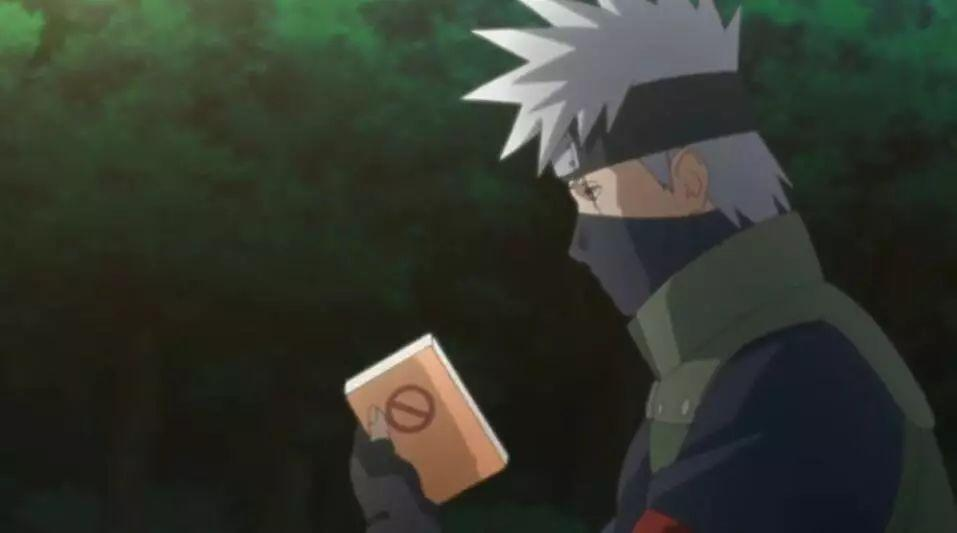kakashi: (540, 74, 779, 322)
